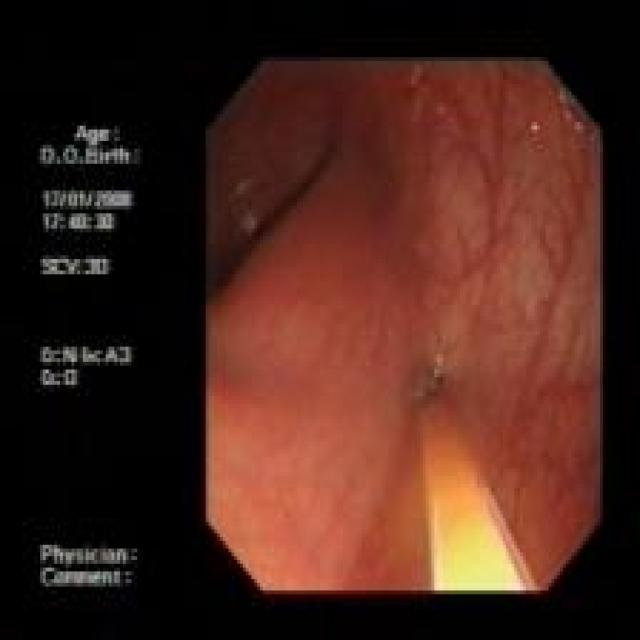blur: (406, 368, 537, 592)
color misalignment: (38, 112, 143, 591)
contrast: (208, 192, 248, 301)
instrument: (407, 368, 537, 591)
saturation: (423, 483, 522, 593)
